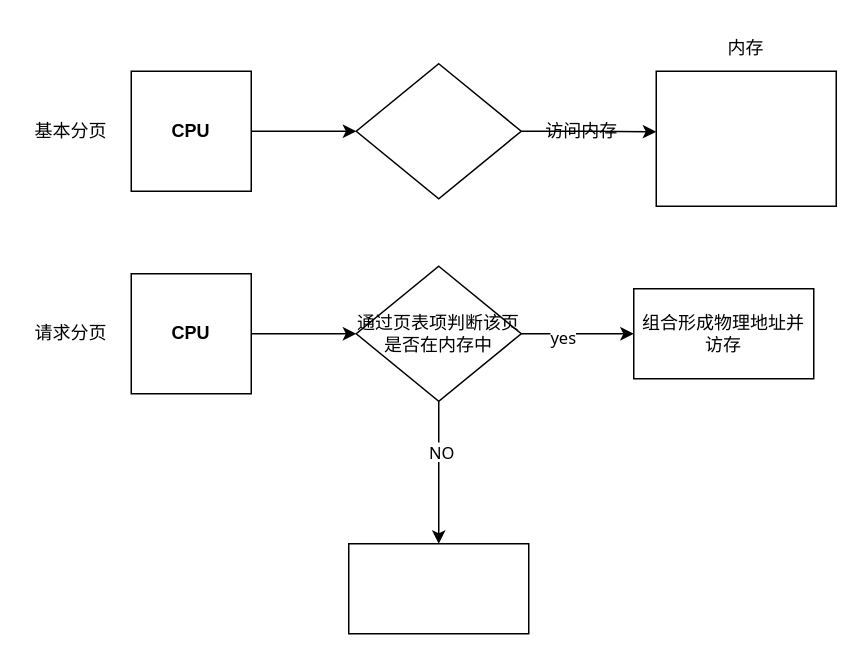
The diagram is 863 pixels wide and 660 high, and some of its shapes have lost their labels. The shapes that lost their labels are listed below. From the top down, each one's box as (x1, y1, x2, y2) in pixels, then its label:
(355, 62, 521, 199): 通过页表/快表获得物理地址
(347, 542, 529, 634): 发出缺页中断,从磁盘中加载该页到内存中并更新页表项.获取新物理地址并访存.
